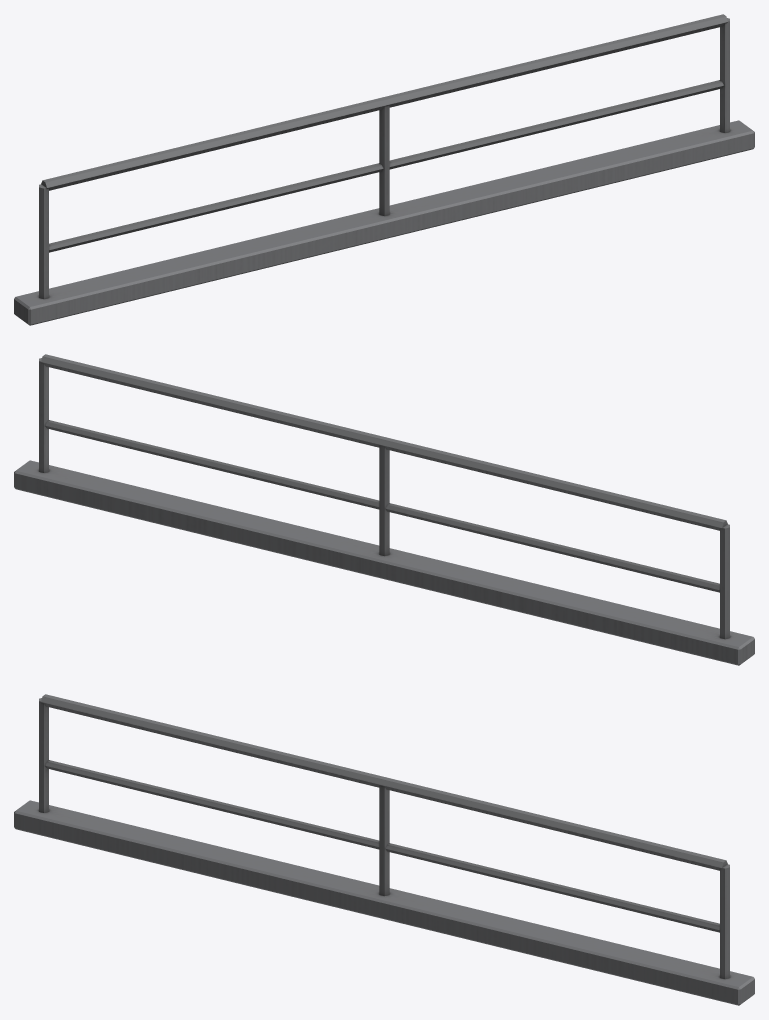
Rendered from nodexeus-set-edge-rail.glb.
The picture shows the model from 3 angles, top to bottom: view 1: azimuth 30°, elevation 25°; view 2: azimuth 150°, elevation 25°; view 3: azimuth 330°, elevation 25°; orthographic projection.
Visible parts, largest first — view 1: set-edge-rail; view 2: set-edge-rail; view 3: set-edge-rail.
Boxes of the visible parts, x1,y1,x2,y2 form: set-edge-rail: [14, 14, 754, 325]; set-edge-rail: [14, 354, 754, 665]; set-edge-rail: [14, 694, 754, 1005].
Size of the model in its own units: 5.7 by 1 by 0.22.
Materials: 1 (1 with a texture image).
